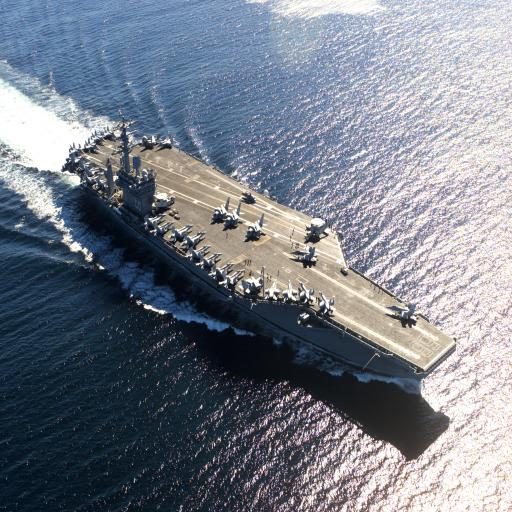Portanaves: (62, 106, 461, 390)
